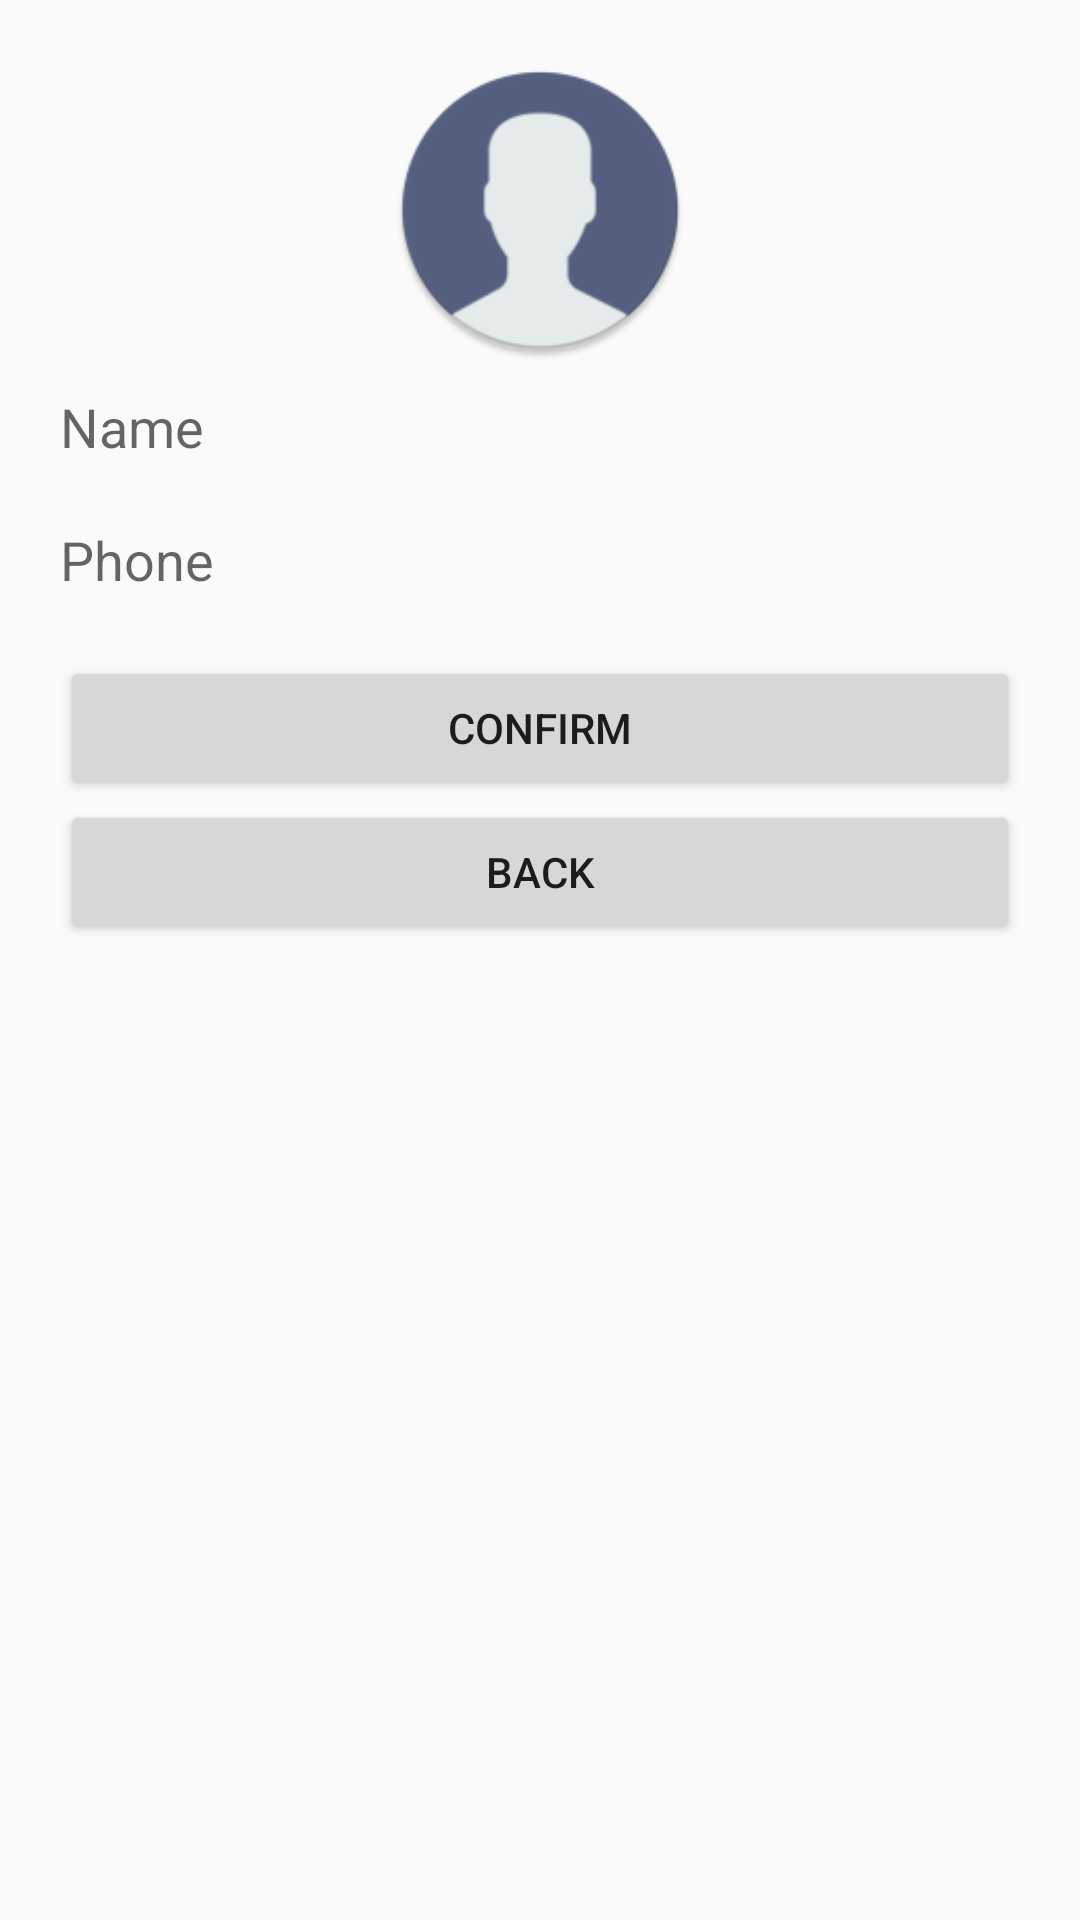

Named icons in this screenshot (1080*1920) and their bounding boxes, {"x1": x1, "y1": y1, "x2": x2, "y2": y2}:
user round: {"x1": 401, "y1": 72, "x2": 680, "y2": 355}
